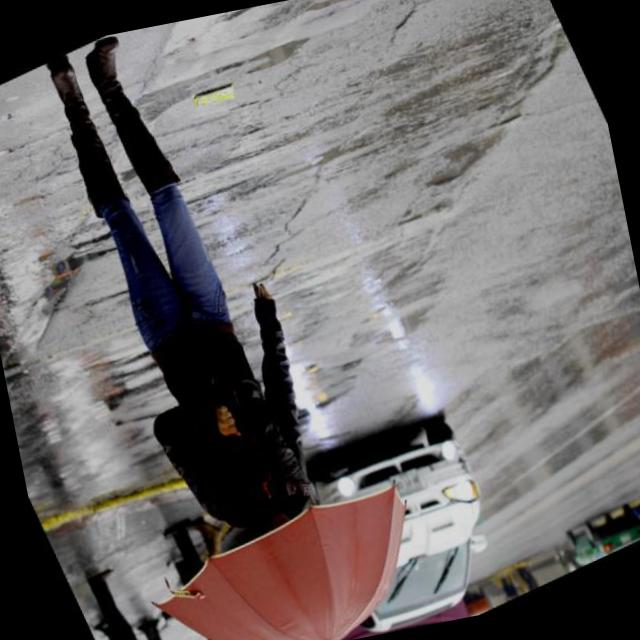person: (0, 3, 377, 583)
